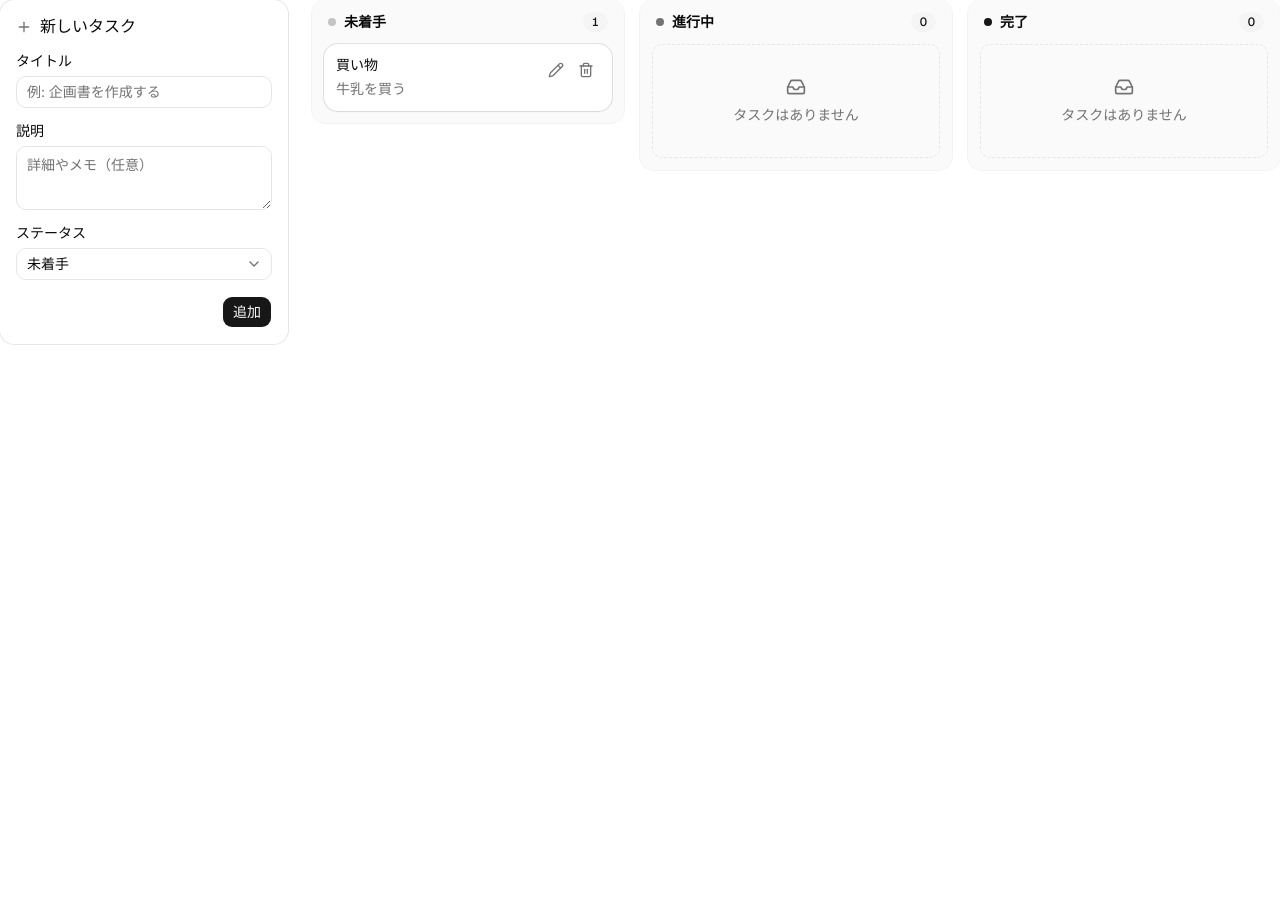
Test case: タスクの削除 › 削除ボタンを押すと、タスク名を含む確認ダイアログが表示される
The width and height of the screenshot is (1280, 900).
Click the button named "削除": (586, 70) [572,56,600,84]
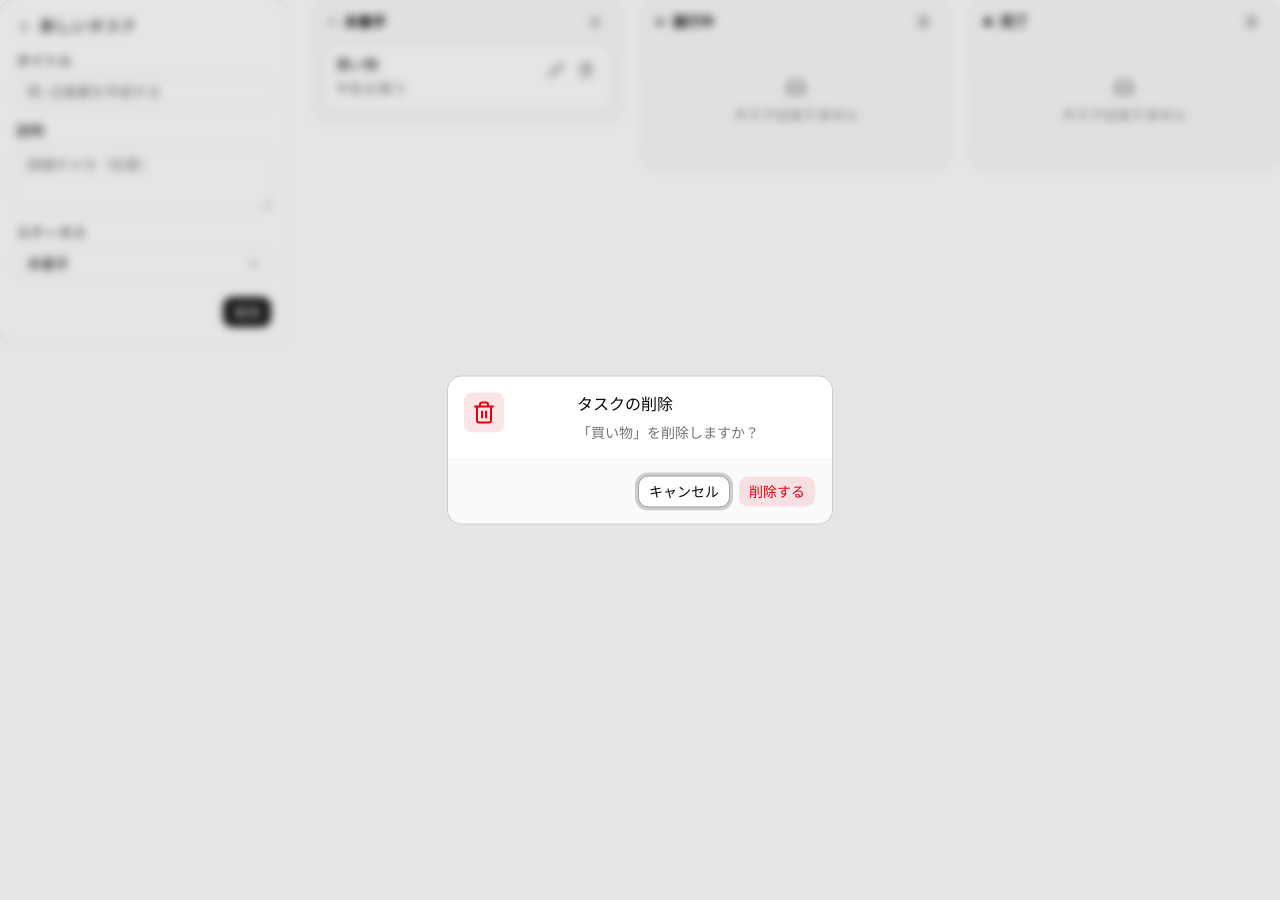
Expected: the text "「買い物」を削除しますか？" is shown, [577,422,759,442]
